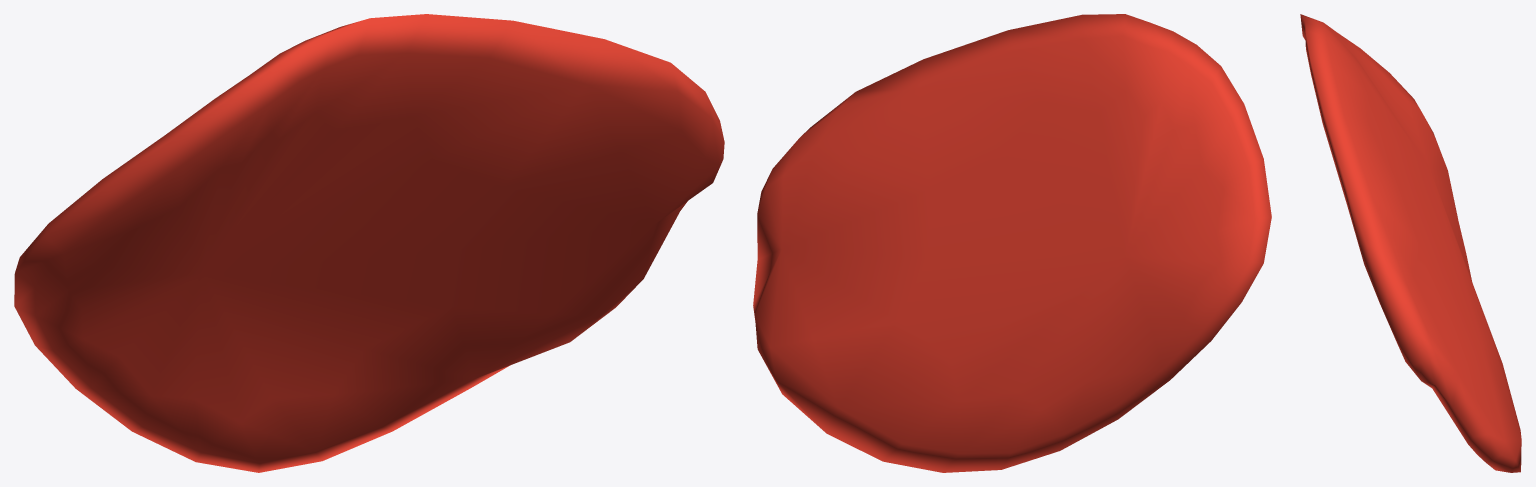
The model's file is Pronator_teres-Ulnar_insertion.l_Generated_Mesh_From_X3D.607.glb.
The picture shows the model from 3 angles, left to right: view 1: azimuth 30°, elevation 25°; view 2: azimuth 150°, elevation 25°; view 3: azimuth 270°, elevation 25°; orthographic projection. The views are drawn at different scales.
Visible parts, largest first — view 1: Pronator_teres-Ulnar_insertion.l_Generated_Mesh_From_X3D.607; view 2: Pronator_teres-Ulnar_insertion.l_Generated_Mesh_From_X3D.607; view 3: Pronator_teres-Ulnar_insertion.l_Generated_Mesh_From_X3D.607.
Boxes of the visible parts, <box> form: Pronator_teres-Ulnar_insertion.l_Generated_Mesh_From_X3D.607: <box>14,14,724,472</box>; Pronator_teres-Ulnar_insertion.l_Generated_Mesh_From_X3D.607: <box>753,14,1271,472</box>; Pronator_teres-Ulnar_insertion.l_Generated_Mesh_From_X3D.607: <box>1300,14,1521,472</box>.
Bounding box in the file's own units: 0.00743 × 0.00578 × 0.0031.
